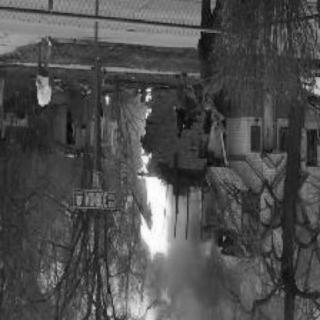Fire: (134, 87, 156, 179)
Smoke: (163, 189, 224, 316)
